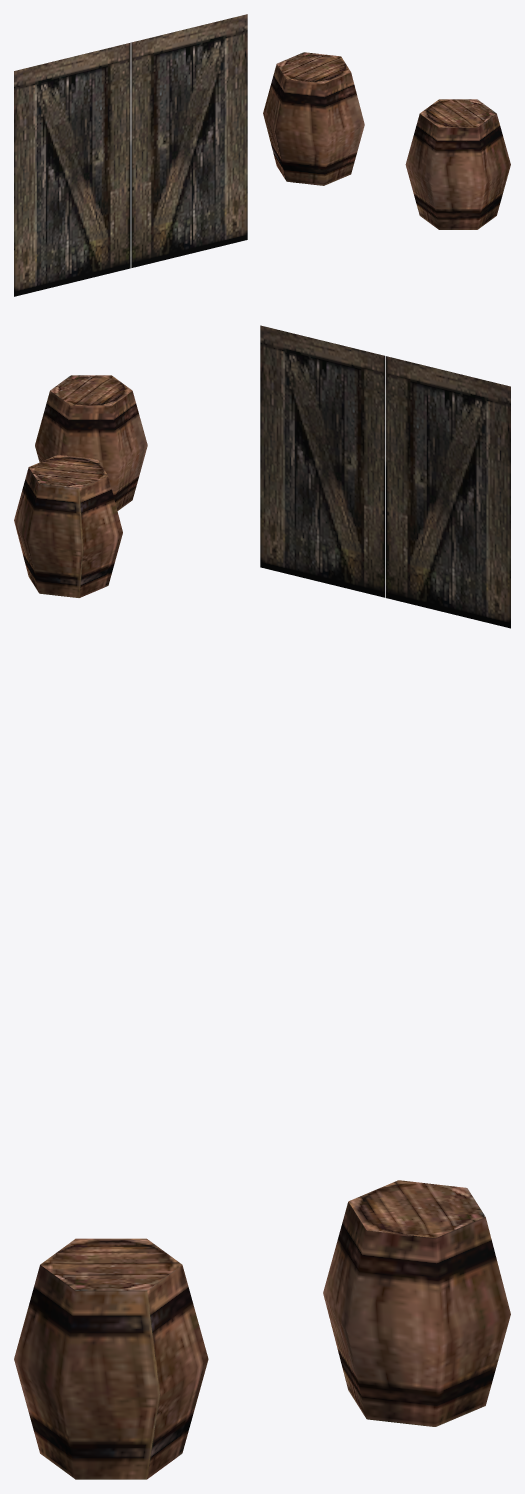
The model's file is celt_kennel_props_1.dae.
3 renders of one model, top to bottom at view 1: azimuth 30°, elevation 25°; view 2: azimuth 150°, elevation 25°; view 3: azimuth 270°, elevation 25°, orthographic. The views are drawn at different scales.
Parts seen in each view (by area): view 1: Object14-Pivot; view 2: Object14-Pivot; view 3: Object14-Pivot.
Boxes of the visible parts, <box> form: Object14-Pivot: <box>14,14,510,296</box>; Object14-Pivot: <box>14,325,510,628</box>; Object14-Pivot: <box>14,1180,510,1479</box>.
Size of the model in its own units: 8.71 by 4.44 by 4.14.
